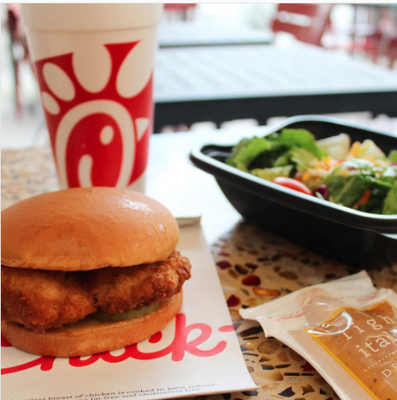soup: (0, 186, 192, 359)
sushi: (189, 115, 397, 268)
